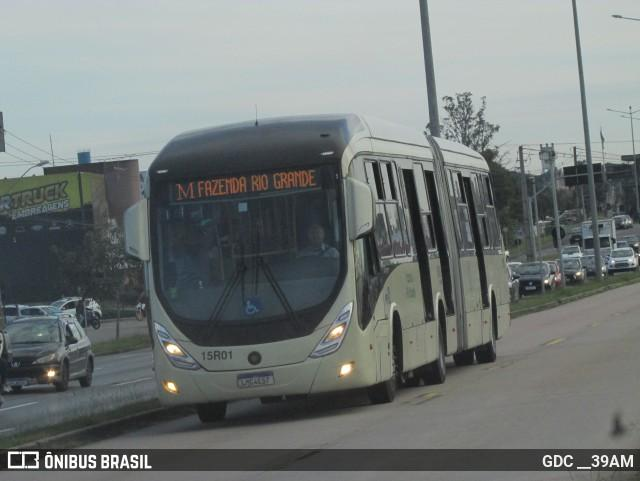FAZENDA: (193, 168, 321, 203)
